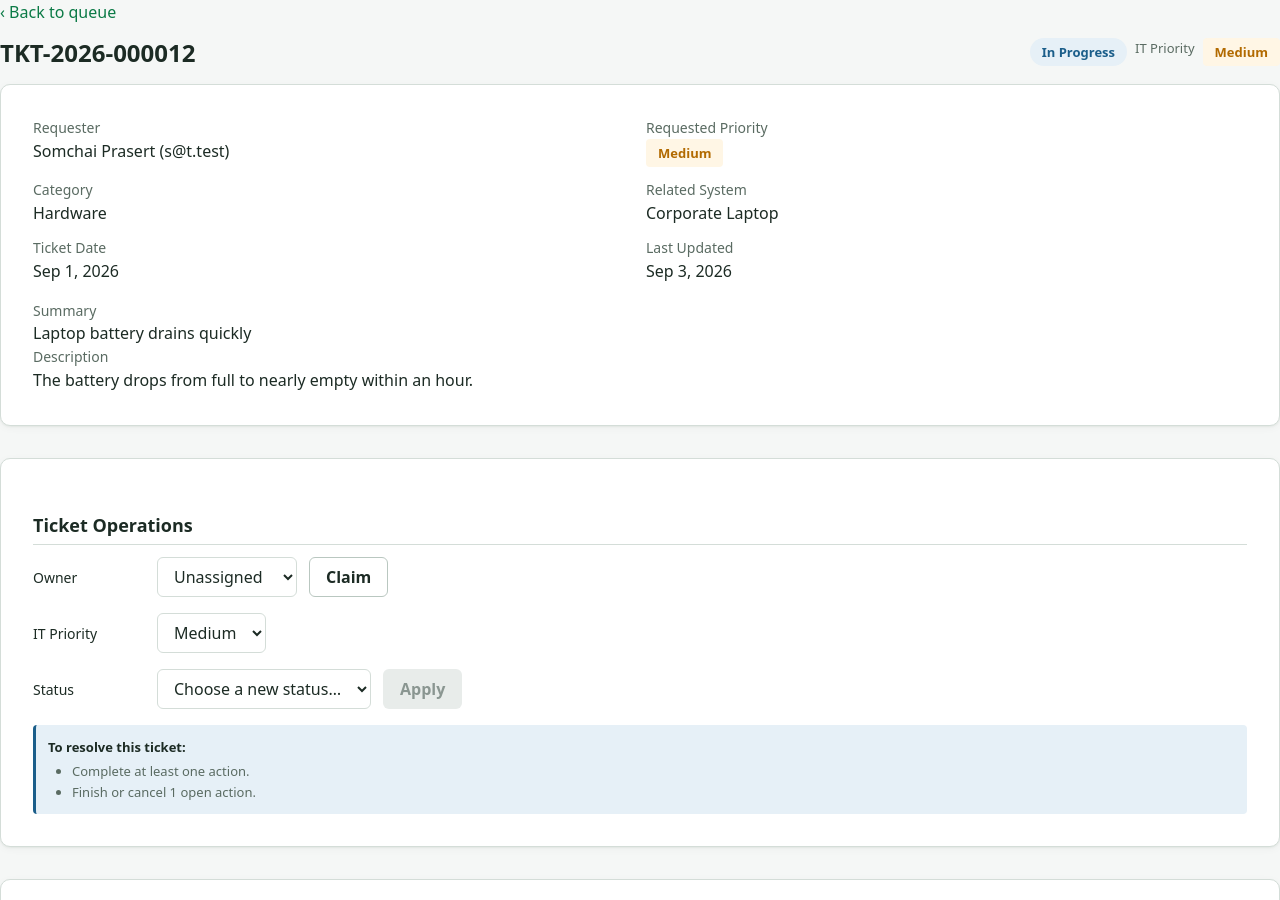
UI-21: the cancel confirmation says how many open actions will also be cancelled
Select "Cancelled" in the dropdown labelled "Status" at (264, 689), box 157,669 -> 371,709
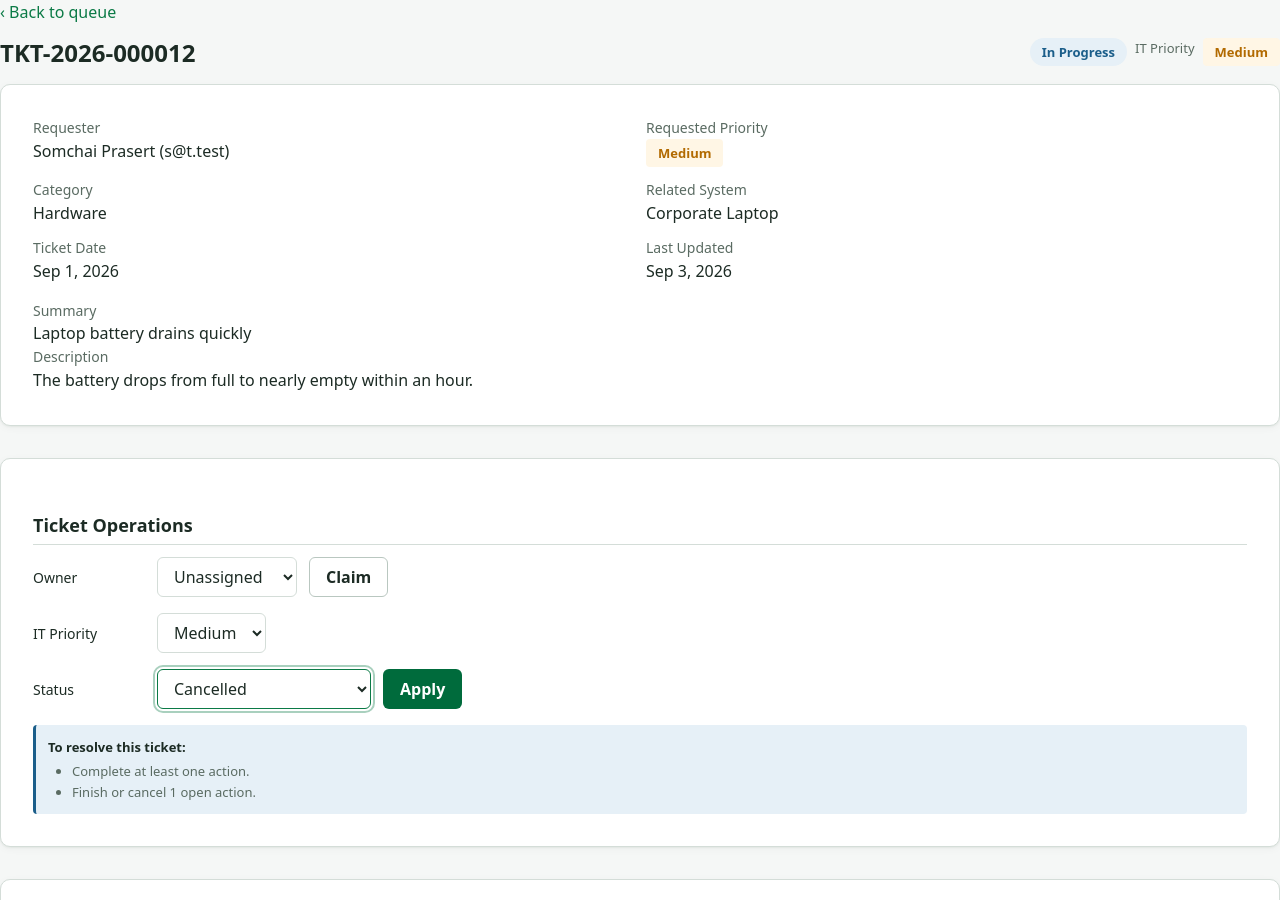
Click the button "Apply" at (423, 689), box 383,669 -> 462,709
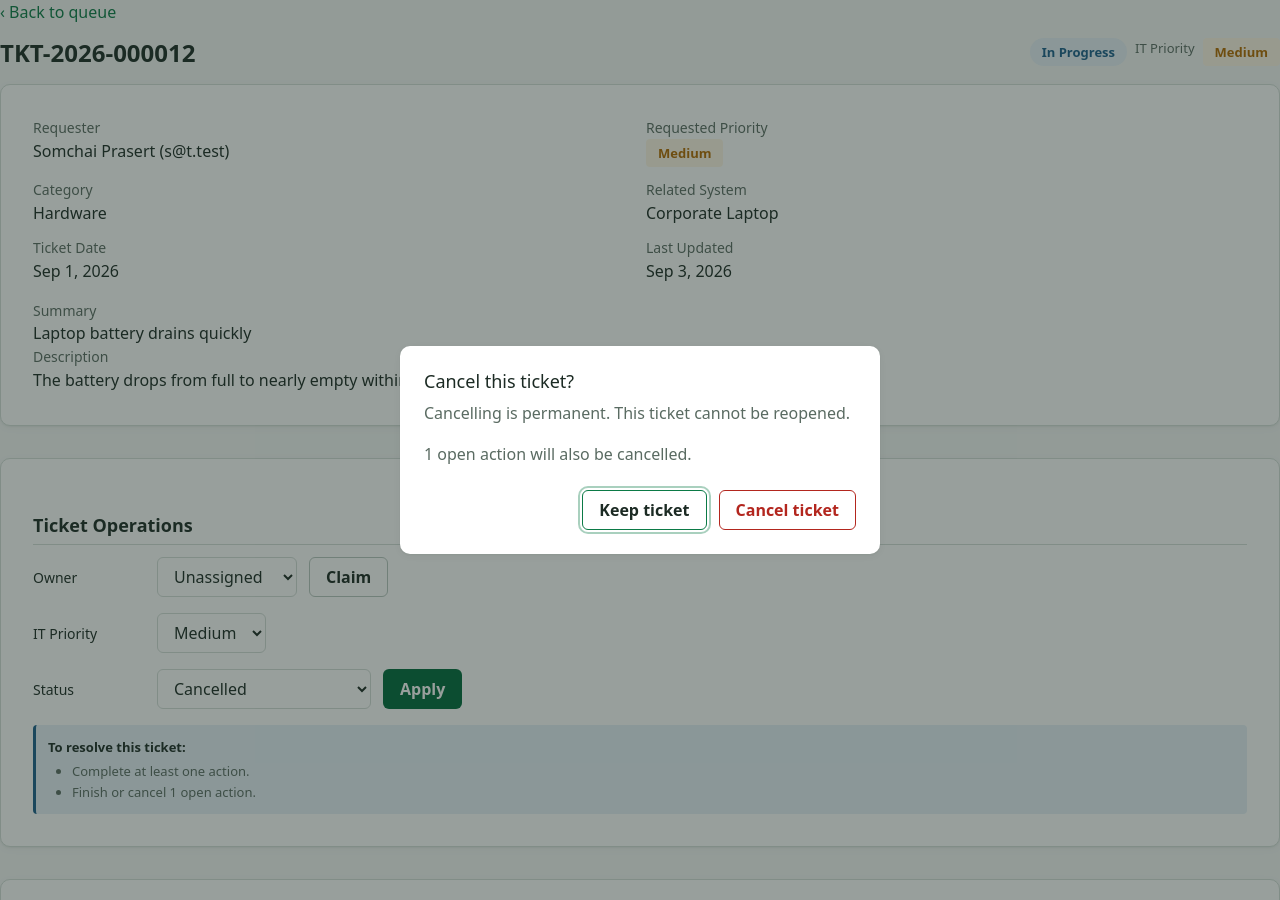
Expected: the dialog named "Cancel ticket" shows "1 open action will also be cancelled.", 400,346 -> 880,554
